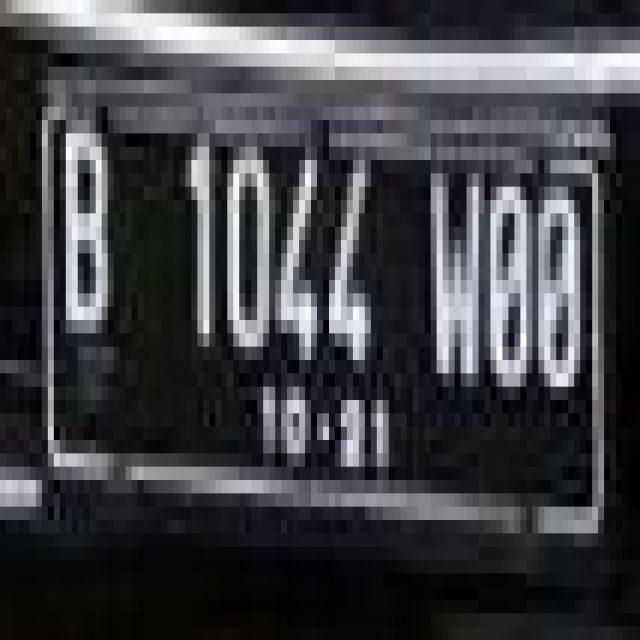0: (218, 133, 272, 360)
1: (182, 120, 218, 360)
4: (320, 140, 374, 367), (275, 140, 323, 367)
B: (59, 120, 120, 347)
O: (478, 160, 532, 400), (532, 173, 586, 400)
W: (424, 154, 484, 394)
